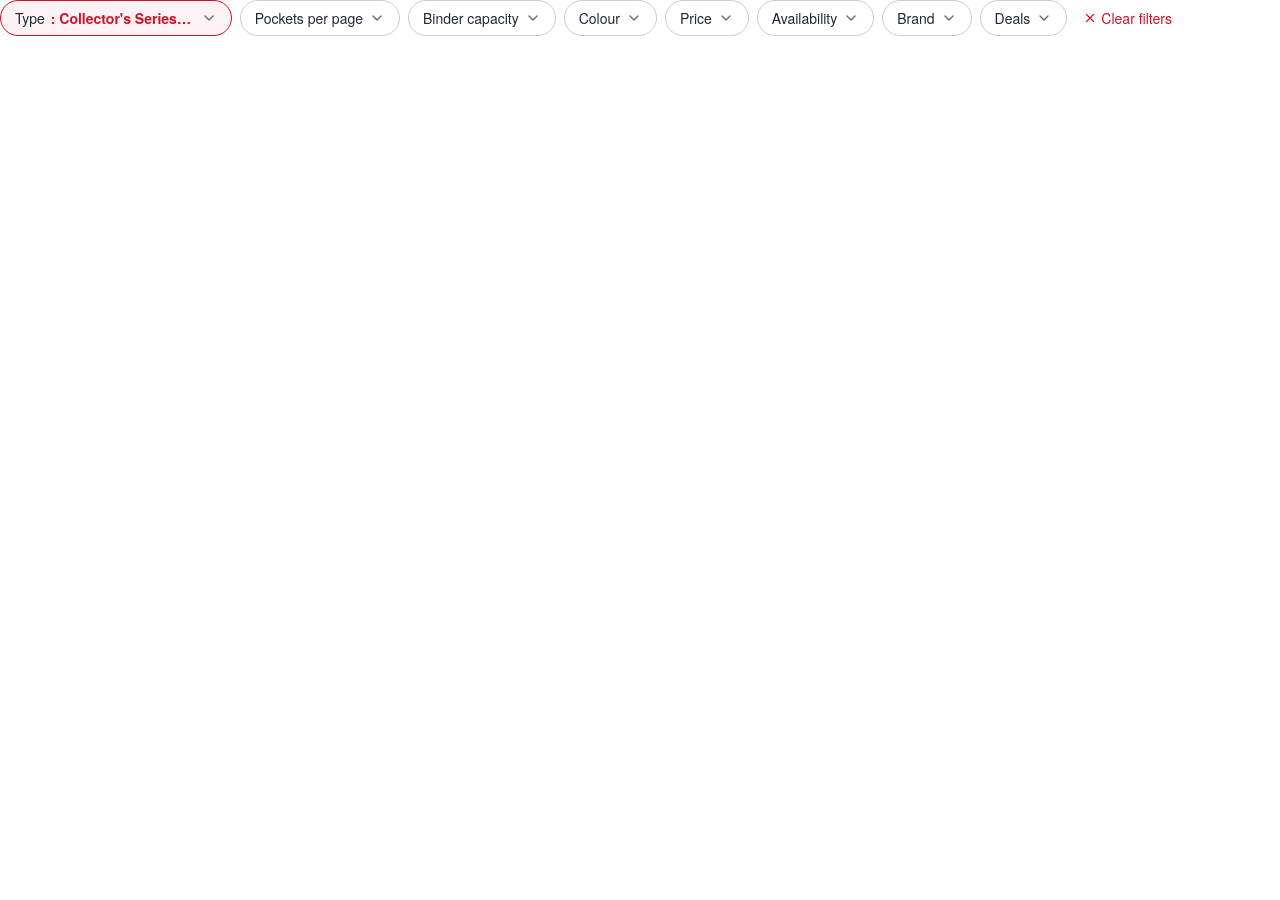
Test: ShopFilterPanel › disables options the other selections rule out
Expected: the button "Type : Collector's Series 4-Pocket Zip Binder" is shown, [0,0,232,36]
Click the button "Colour" at (610, 18), box [564,0,657,36]
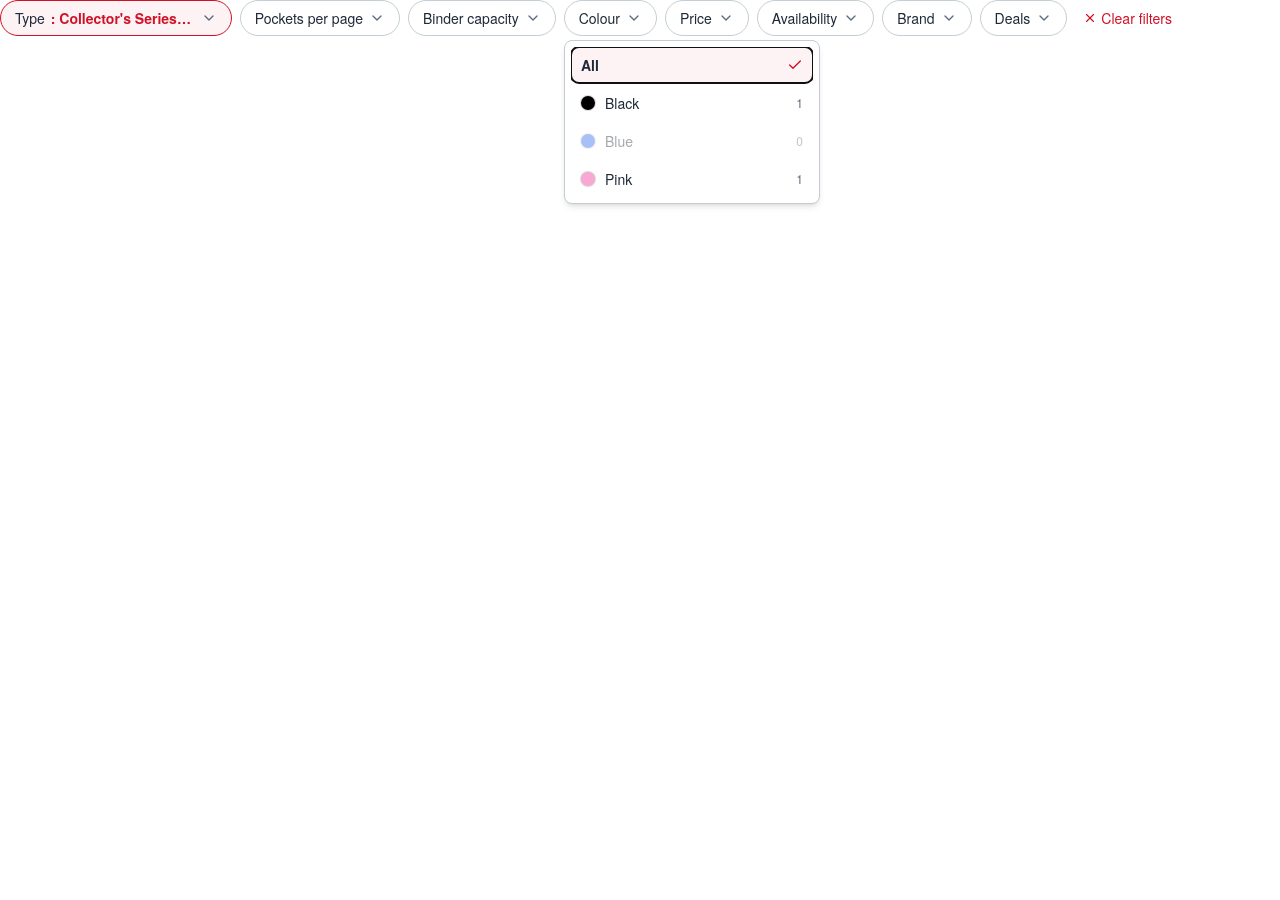
Expected: the radio button labelled "Blue 0" is disabled, [571,123,813,159]
Expected: the radio button labelled "Pink 1" is enabled, [571,161,813,197]
